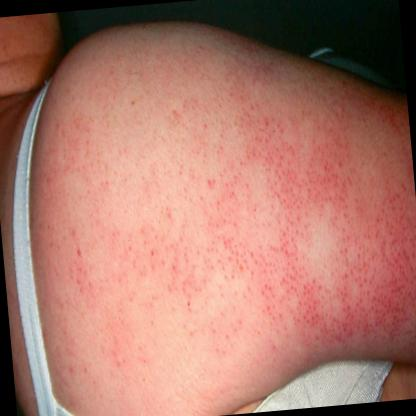Chicken Skin: (251, 97, 416, 360), (135, 101, 270, 351)
